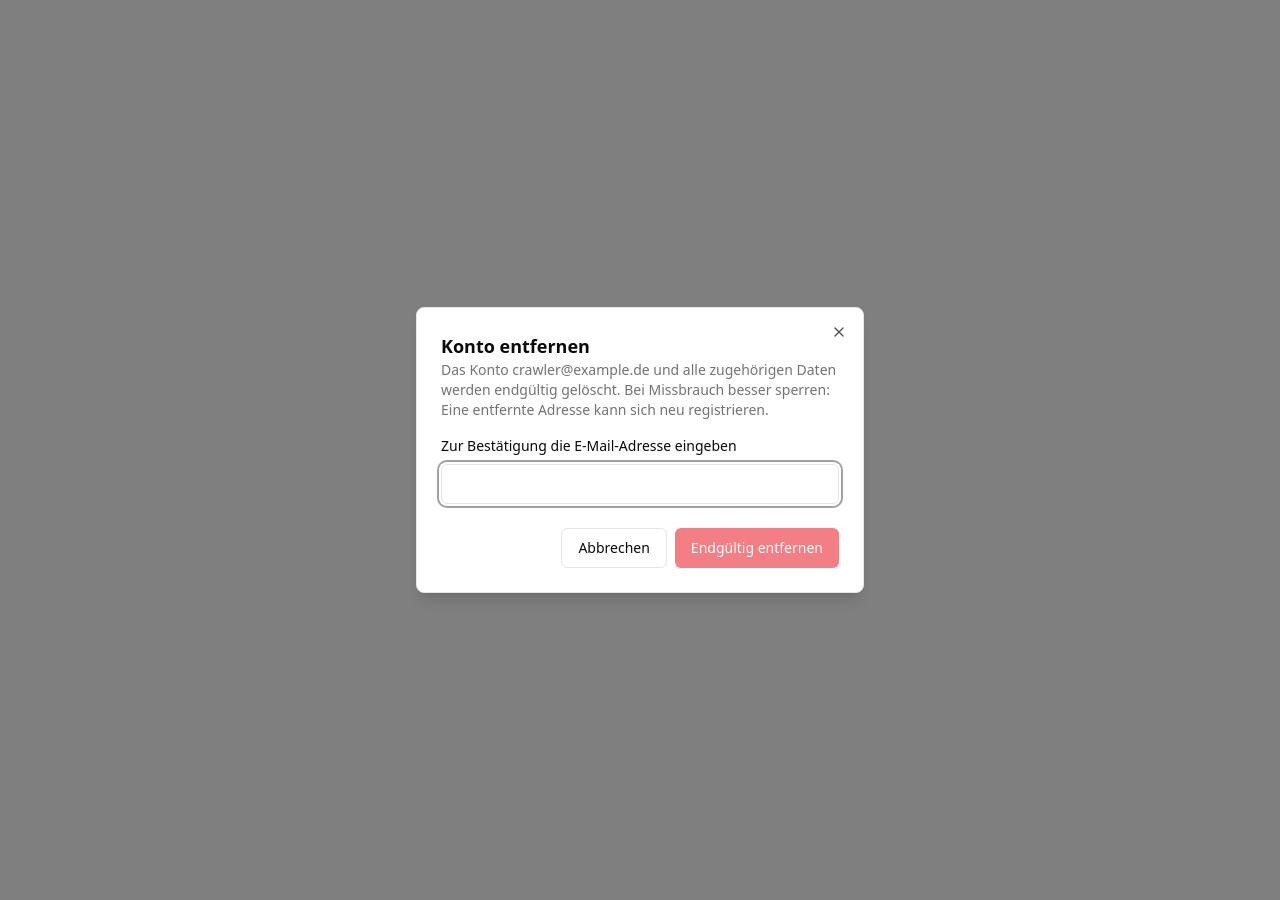
Test: row actions › shows the backend error code as text
The image size is (1280, 900).
In the field labelled "Zur Bestätigung die E-Mail-Adresse eingeben": (640, 484) [441, 464, 839, 504], type "crawler@example.de"
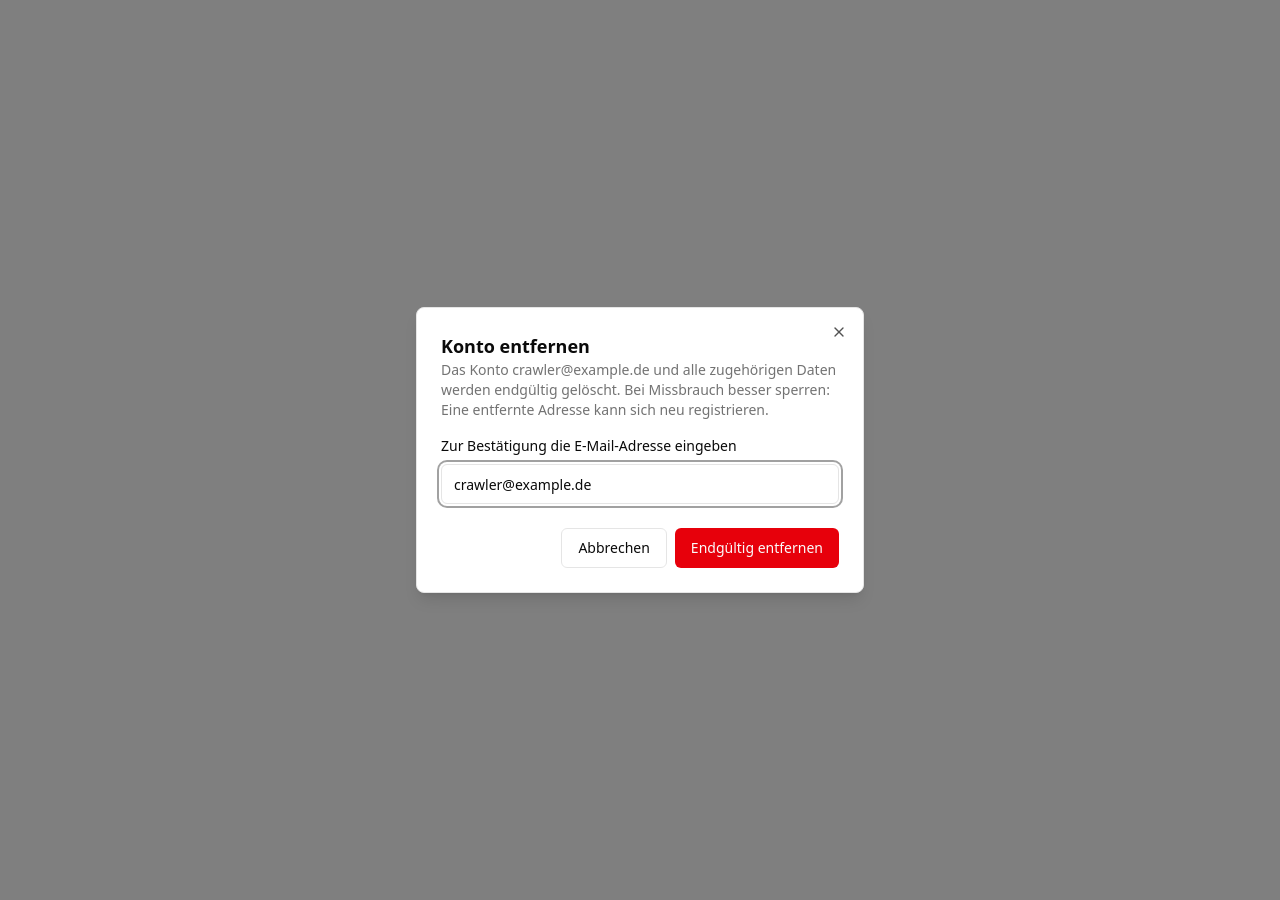
Click the button "Endgültig entfernen": (757, 548) [675, 528, 839, 568]
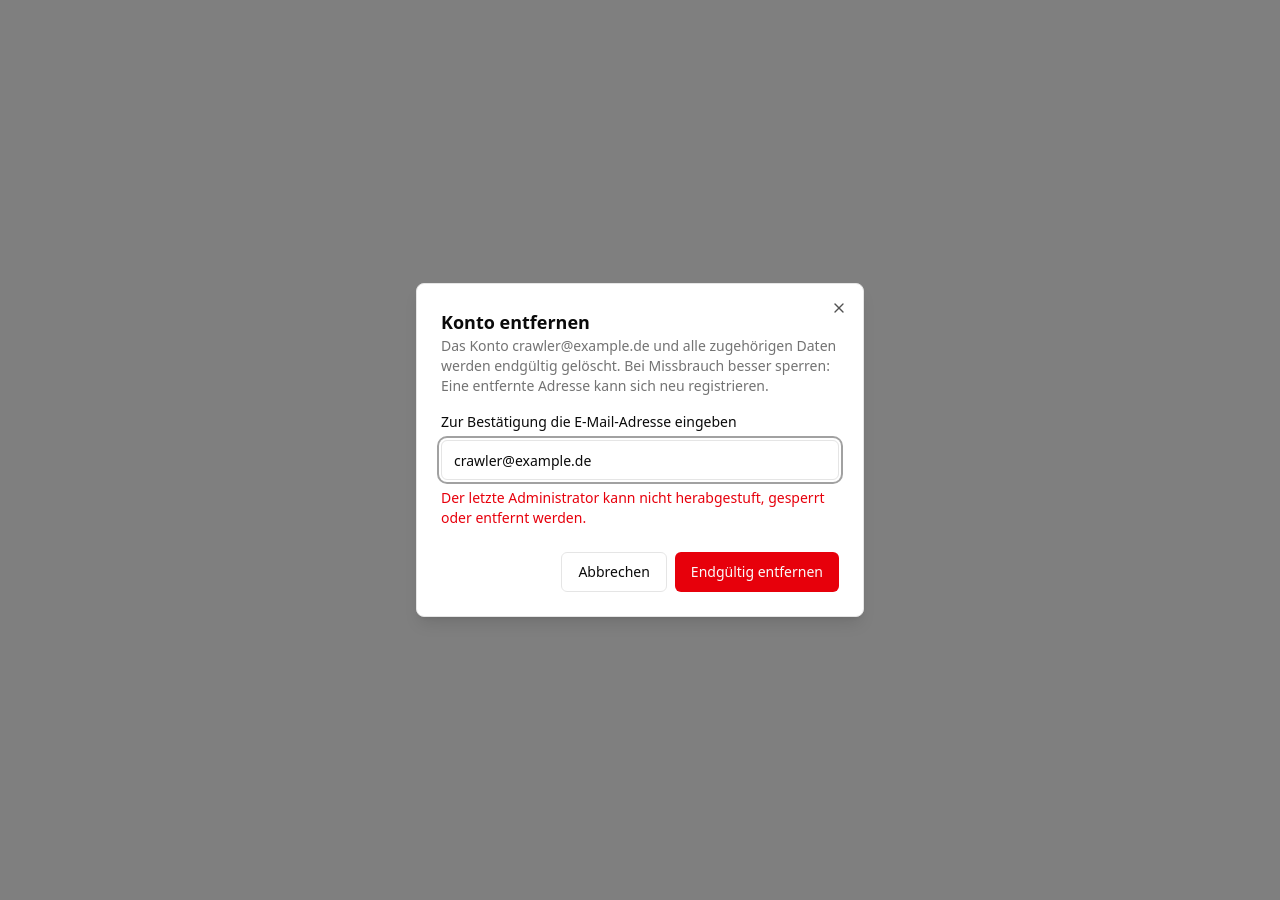
Check: the message reads "Der letzte Administrator kann nicht herabgestuft, gesperrt oder entfernt werden.", box [441, 488, 824, 527]
